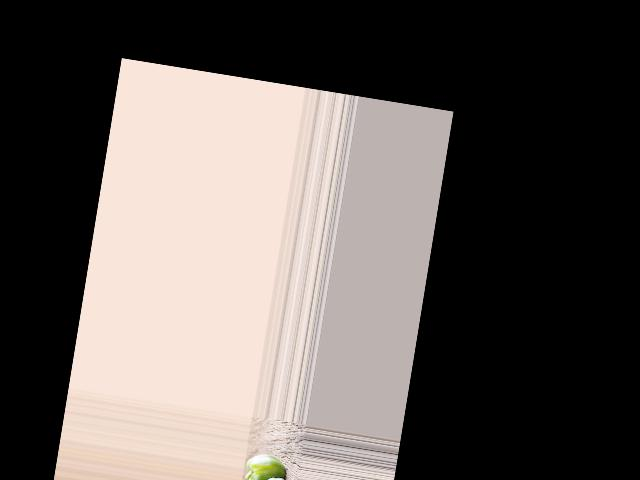bell_pepper: (247, 472, 292, 480)
